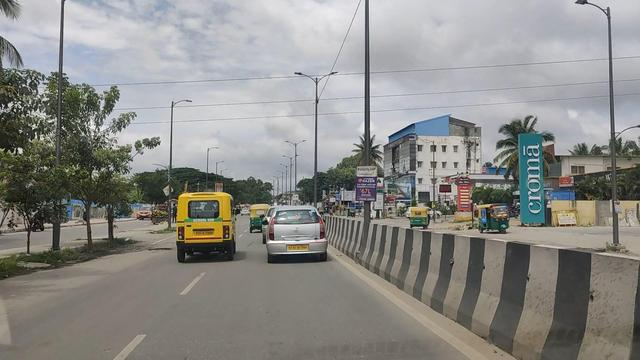LMV: (173, 191, 244, 263), (259, 204, 330, 266)
